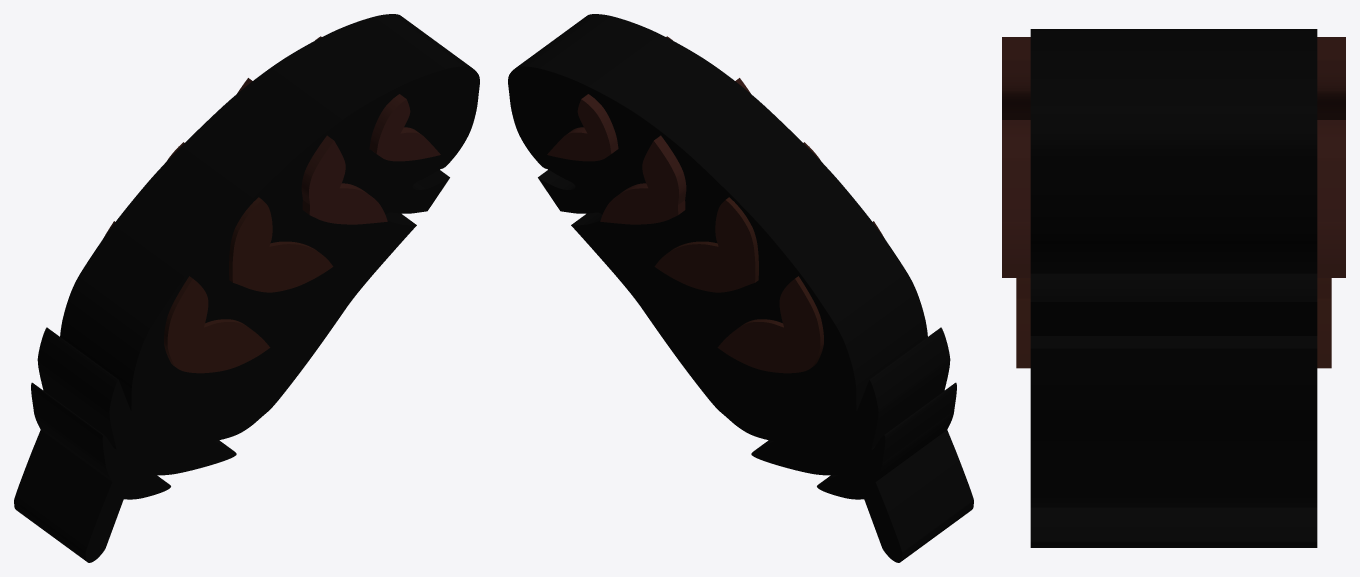
The model's file is U+1FAB6.obj.
3 views of the same model, side by side, from view 1: azimuth 30°, elevation 25°; view 2: azimuth 150°, elevation 25°; view 3: azimuth 270°, elevation 25° (orthographic). The views are drawn at different scales.
Visible parts, largest first — view 1: U+1FAB6_layer00_obj02, U+1FAB6_layer00_obj00, U+1FAB6_layer00_obj01, U+1FAB6_layer01_obj00, U+1FAB6_layer01_obj01, U+1FAB6_layer02_obj01, U+1FAB6_layer02_obj00; view 2: U+1FAB6_layer00_obj02, U+1FAB6_layer00_obj00, U+1FAB6_layer00_obj01, U+1FAB6_layer01_obj00, U+1FAB6_layer01_obj01, U+1FAB6_layer02_obj01, U+1FAB6_layer02_obj00; view 3: U+1FAB6_layer00_obj02, U+1FAB6_layer00_obj00, U+1FAB6_layer02_obj00, U+1FAB6_layer02_obj01, U+1FAB6_layer01_obj00, U+1FAB6_layer00_obj01, U+1FAB6_layer01_obj01.
Boxes of the visible parts, box(x1,y1,x2,y2) form: U+1FAB6_layer00_obj02: box(60, 14, 479, 460); U+1FAB6_layer00_obj00: box(31, 327, 236, 499); U+1FAB6_layer00_obj01: box(14, 72, 472, 562); U+1FAB6_layer01_obj00: box(103, 221, 270, 373); U+1FAB6_layer01_obj01: box(167, 142, 333, 292); U+1FAB6_layer02_obj01: box(237, 78, 387, 224); U+1FAB6_layer02_obj00: box(315, 36, 440, 161); U+1FAB6_layer00_obj02: box(508, 14, 927, 461); U+1FAB6_layer00_obj00: box(751, 327, 956, 499); U+1FAB6_layer00_obj01: box(515, 71, 973, 562); U+1FAB6_layer01_obj00: box(717, 221, 884, 373); U+1FAB6_layer01_obj01: box(654, 142, 820, 292); U+1FAB6_layer02_obj01: box(600, 78, 750, 224); U+1FAB6_layer02_obj00: box(547, 36, 672, 161); U+1FAB6_layer00_obj02: box(1030, 29, 1317, 507); U+1FAB6_layer00_obj00: box(1030, 507, 1317, 543); U+1FAB6_layer02_obj00: box(1002, 60, 1345, 221); U+1FAB6_layer02_obj01: box(1002, 37, 1345, 277); U+1FAB6_layer01_obj00: box(1016, 298, 1331, 368); U+1FAB6_layer00_obj01: box(1030, 544, 1317, 547); U+1FAB6_layer01_obj01: box(1016, 278, 1331, 298).
Bounding box in the file's own units: 0.3176 × 0.3133 × 0.12.
